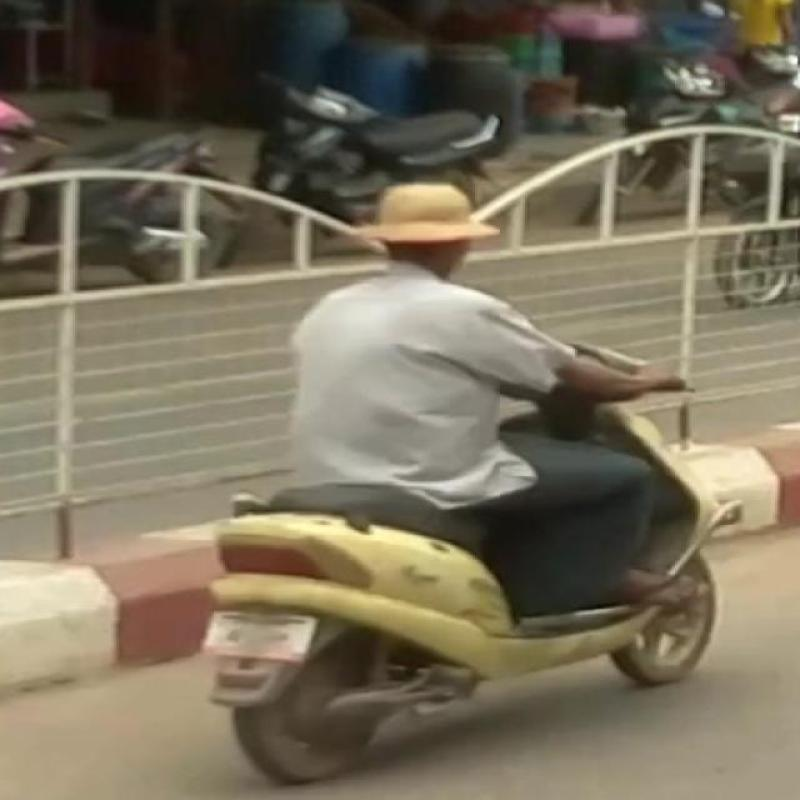nohelmet: (346, 167, 525, 304)
